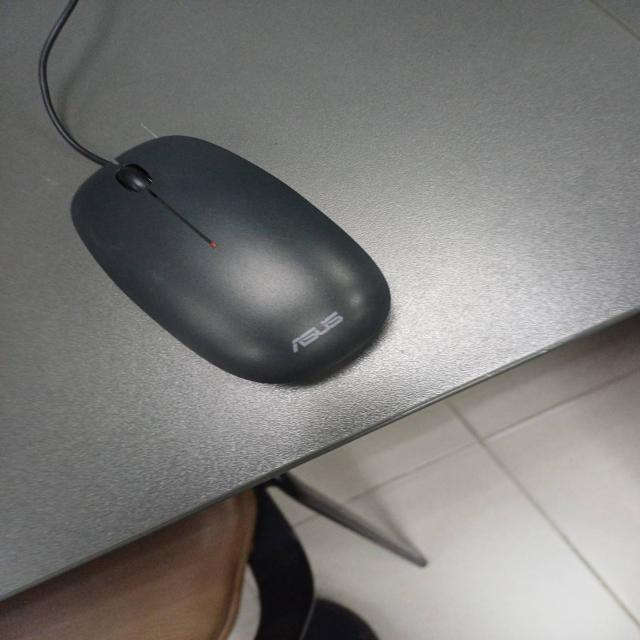mouse: (58, 128, 401, 398)
